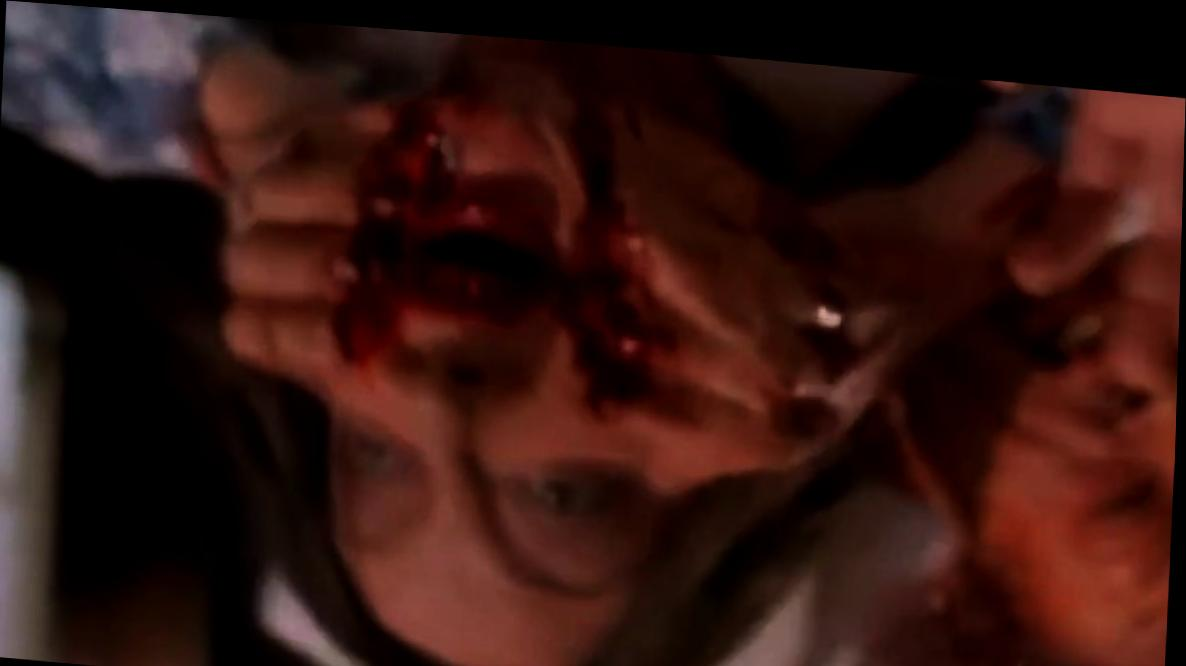Fire: (333, 32, 712, 432), (711, 166, 885, 451), (968, 88, 1068, 250), (909, 321, 995, 501), (189, 123, 265, 231)
